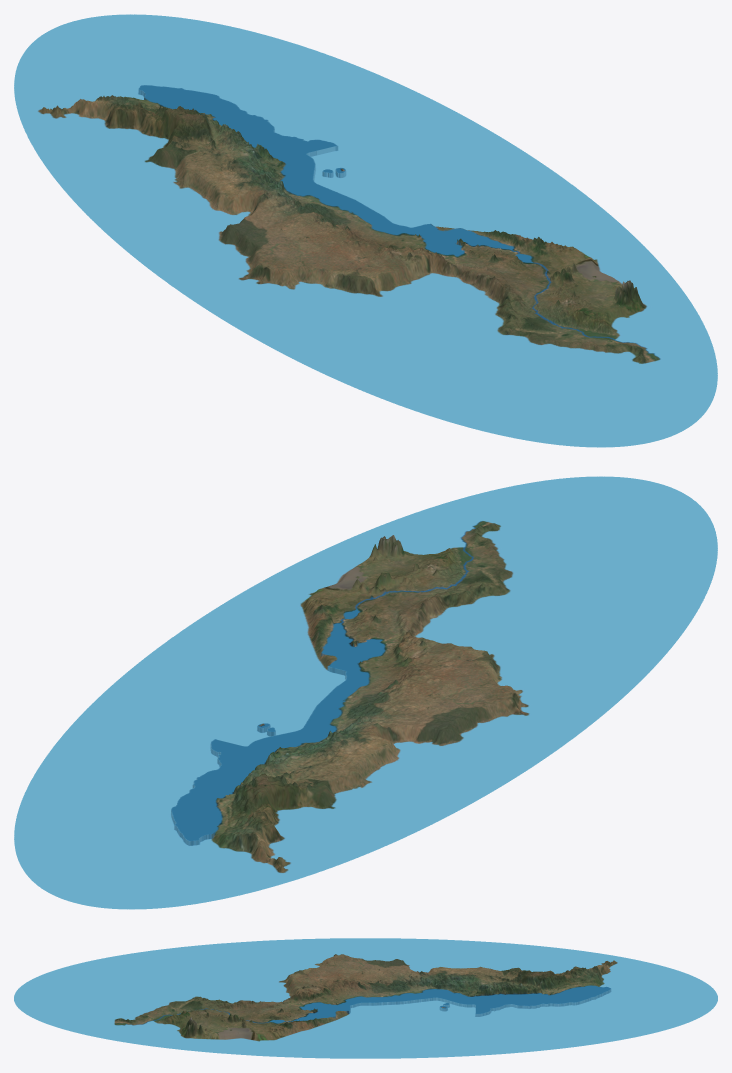
The model's file is MWI-previa-terrain.glb.
3 renders of one model, top to bottom at view 1: azimuth 30°, elevation 25°; view 2: azimuth 150°, elevation 25°; view 3: azimuth 270°, elevation 25°, orthographic. The views are drawn at different scales.
Visible parts, largest first — view 1: Malawi; view 2: Malawi; view 3: Malawi.
Part boxes in pixels (<box>): Malawi: <box>14,14,717,447</box>; Malawi: <box>14,476,717,909</box>; Malawi: <box>14,938,717,1058</box>.
Bounding box in the file's own units: 0.9972 × 0.0611 × 2.46.
1 material, 1 textured.
